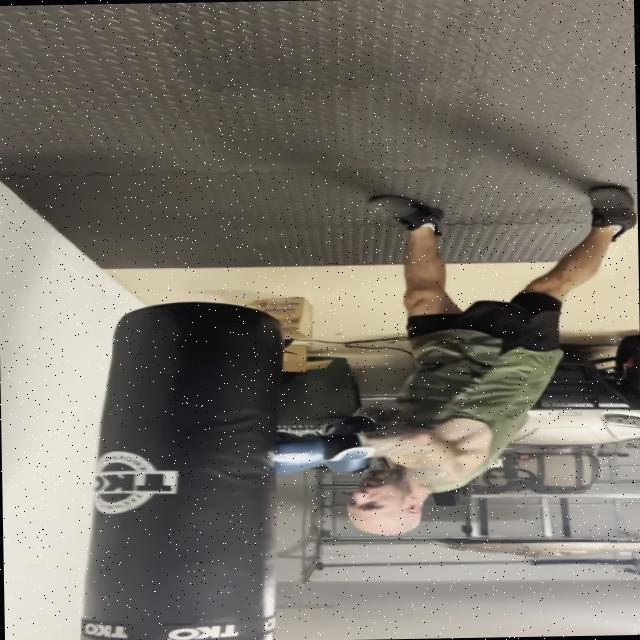bag: (82, 291, 277, 640)
cross: (241, 391, 534, 552)
